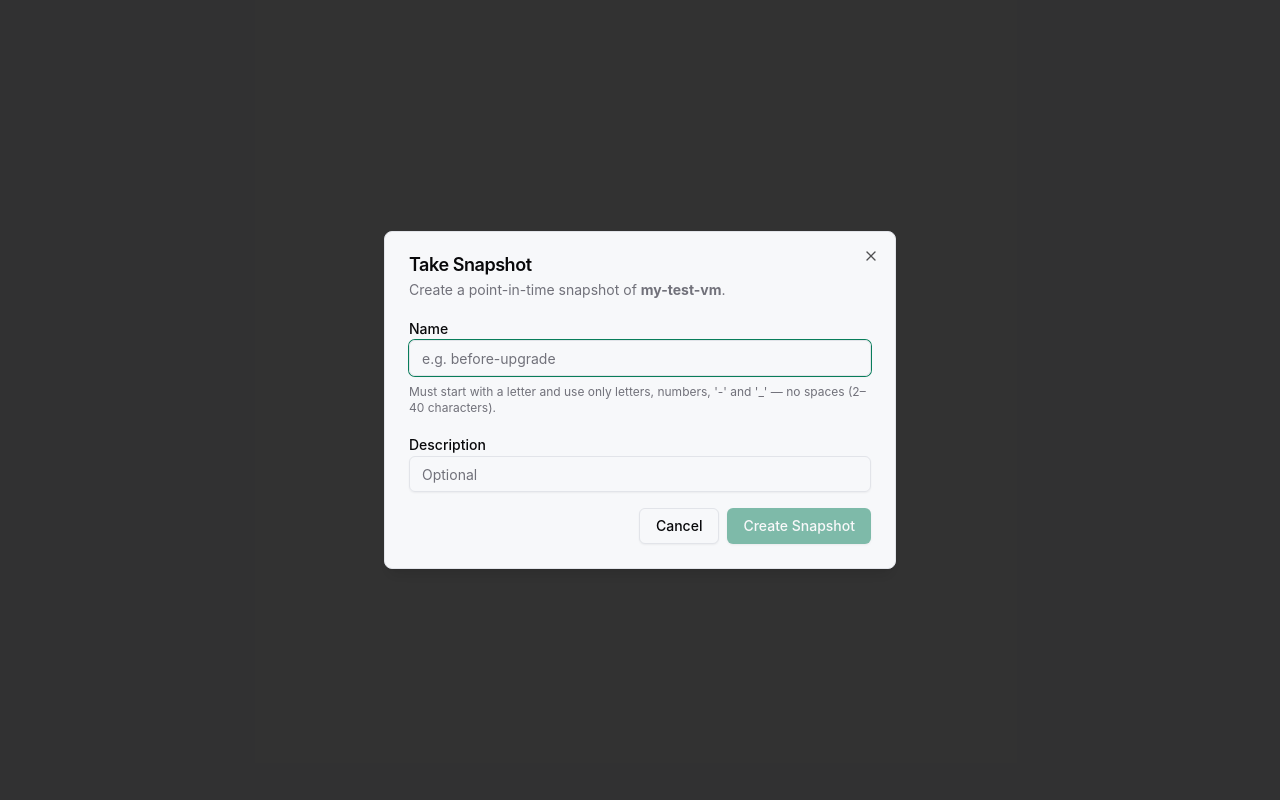
Test: CreateSnapshotDialog › allows pending on a container
This screenshot has width=1280, height=800.
In the field labelled "Name": (640, 358) top-left (409, 340), bottom-right (871, 376), type "pending"
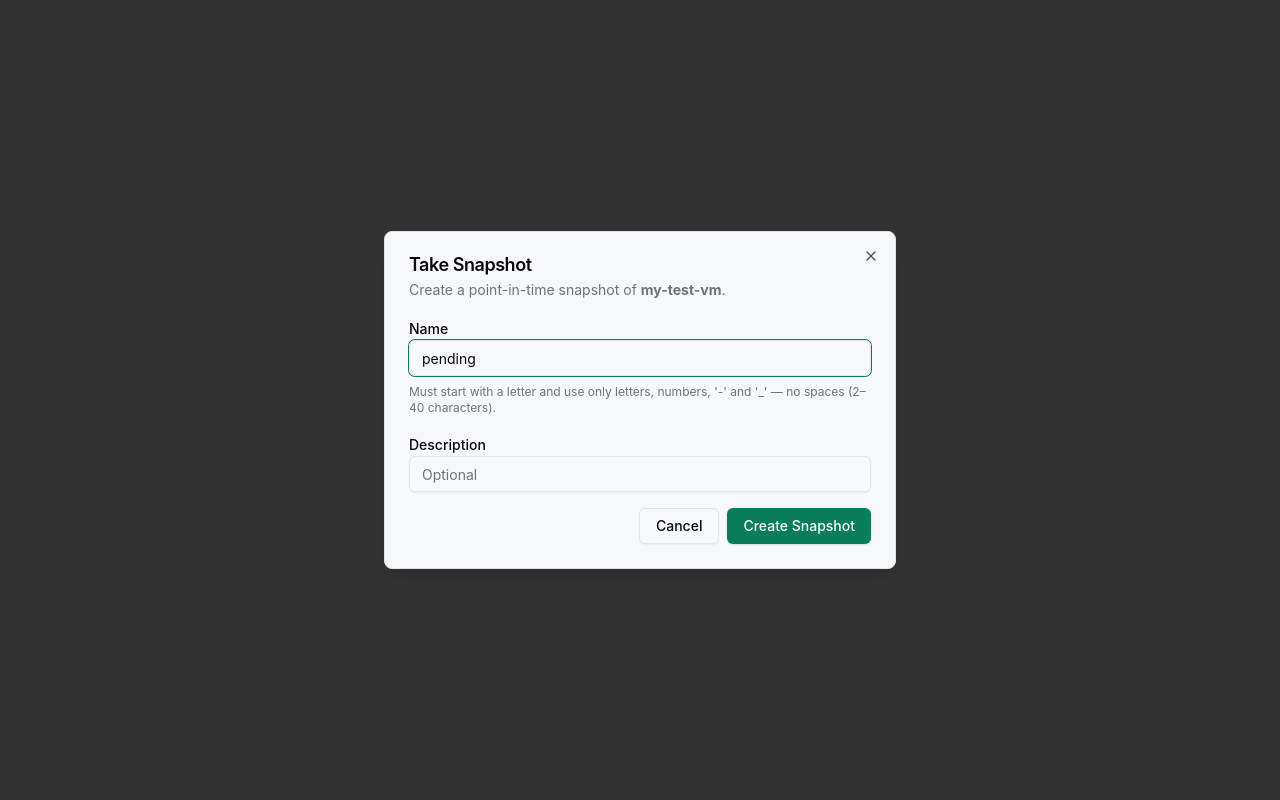
expect the button "Create Snapshot" is enabled: met, box top-left (727, 508), bottom-right (871, 544)
